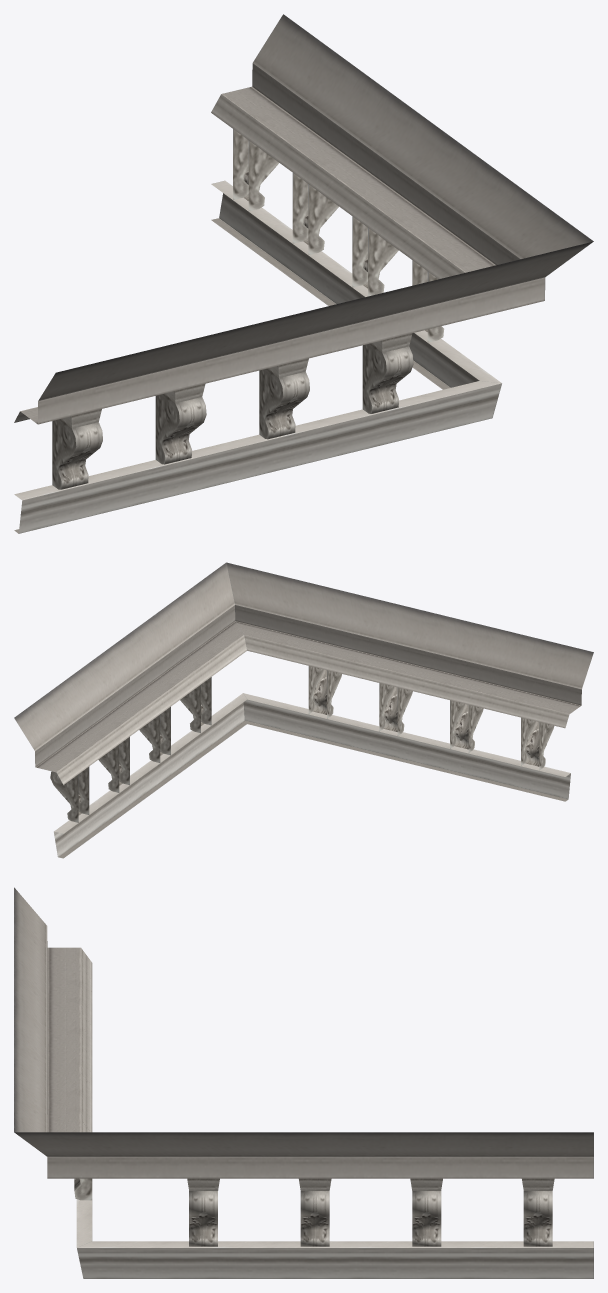
File: WallRooflineCorner1B.fbx
3 views of the same model, one above another, from view 1: azimuth 30°, elevation 25°; view 2: azimuth 150°, elevation 25°; view 3: azimuth 270°, elevation 25° (orthographic). The views are drawn at different scales.
Parts seen in each view (by area): view 1: WallRooflineCorner1B; view 2: WallRooflineCorner1B; view 3: WallRooflineCorner1B.
Part boxes in pixels (box(x1,y1,x2,y2)): WallRooflineCorner1B: box(14, 14, 593, 533); WallRooflineCorner1B: box(14, 562, 593, 858); WallRooflineCorner1B: box(14, 887, 593, 1278).
Bounding box in the file's own units: 260 × 86.98 × 260.
